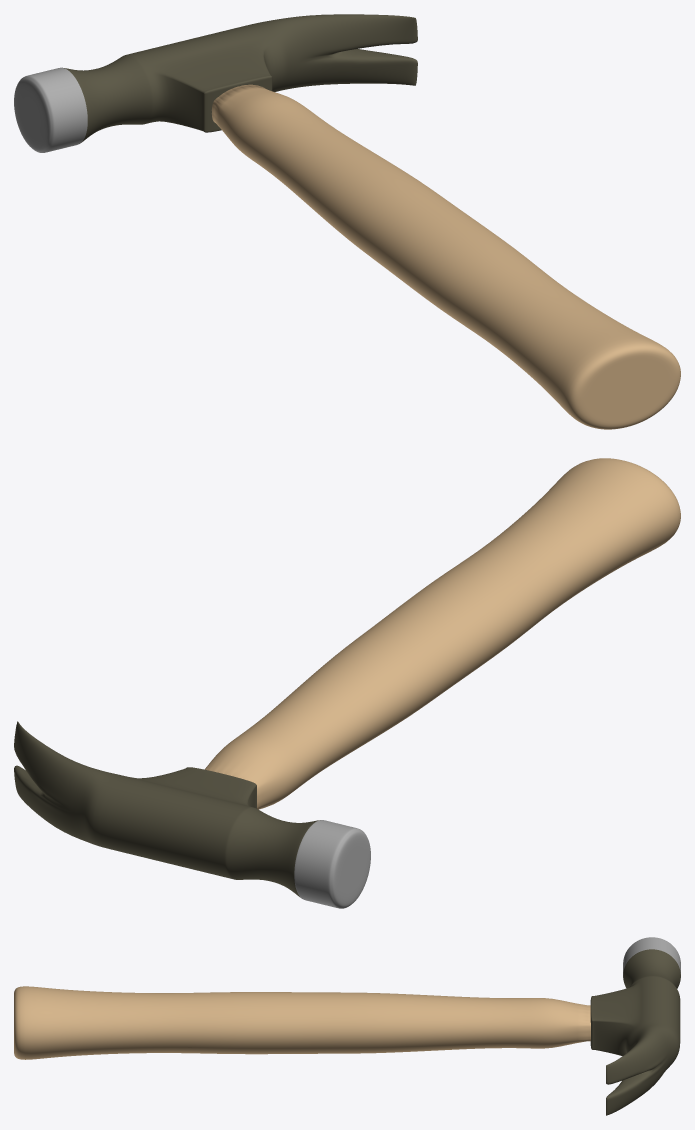
File: marteau_1.fbx
3 renders of one model, top to bottom at view 1: azimuth 30°, elevation 25°; view 2: azimuth 150°, elevation 25°; view 3: azimuth 270°, elevation 25°, orthographic. The views are drawn at different scales.
Visible parts, largest first — view 1: Layer 1, Layer 2; view 2: Layer 1, Layer 2; view 3: Layer 1, Layer 2.
Part boxes in pixels (box(x1,y1,x2,y2)): Layer 1: box(211, 84, 680, 429); Layer 2: box(14, 14, 417, 152); Layer 1: box(204, 458, 680, 809); Layer 2: box(14, 721, 370, 908); Layer 1: box(14, 986, 590, 1059); Layer 2: box(590, 937, 680, 1115).
Bounding box in the file's own units: 635 × 140 × 1389.
